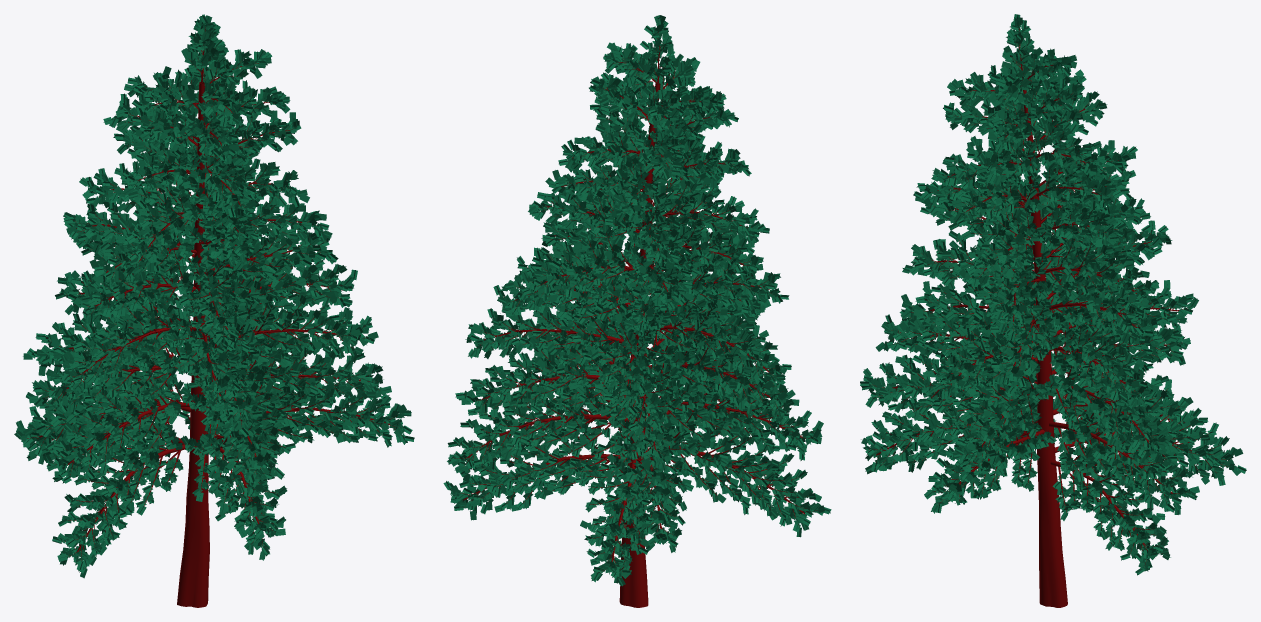
Rendered from tree3.FBX.
The picture shows the model from 3 angles, left to right: view 1: azimuth 30°, elevation 25°; view 2: azimuth 150°, elevation 25°; view 3: azimuth 270°, elevation 25°; orthographic projection. The views are drawn at different scales.
Parts seen in each view (by area): view 1: Foliage001; view 2: Foliage001; view 3: Foliage001.
Boxes of the visible parts, x1,y1,x2,y2 form: Foliage001: (14,14,414,607); Foliage001: (443,15,831,607); Foliage001: (860,14,1246,607).
Bounding box in the file's own units: 399 × 691 × 416.
